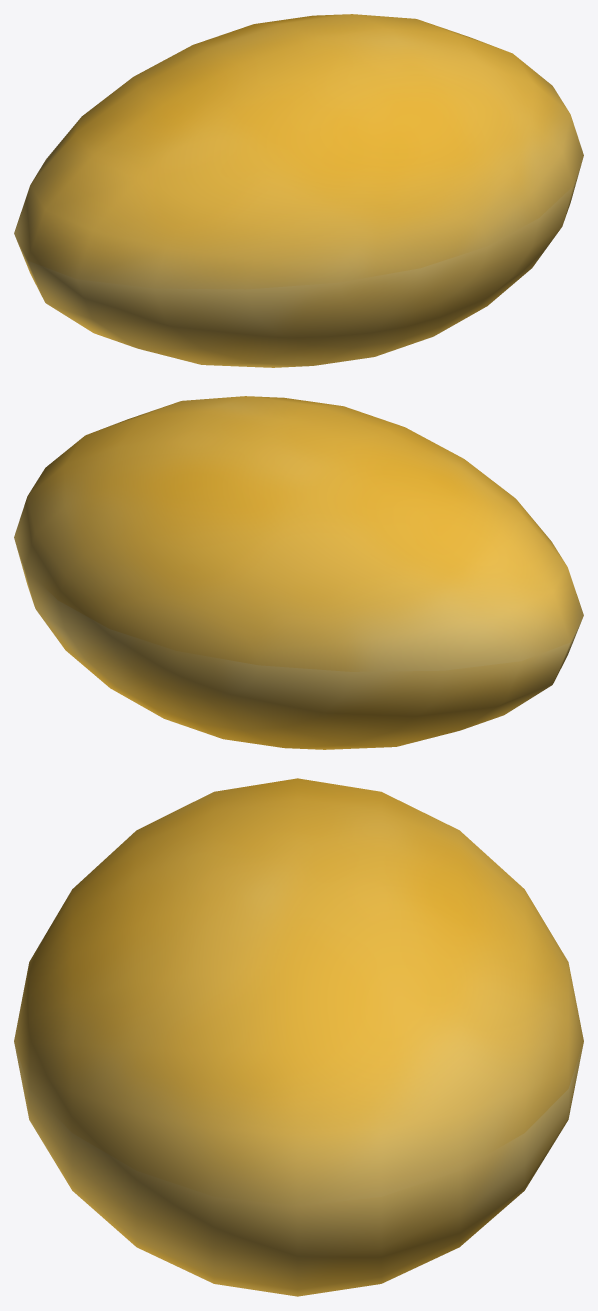
File: Steen Geel.FBX
3 renders of one model, top to bottom at view 1: azimuth 30°, elevation 25°; view 2: azimuth 150°, elevation 25°; view 3: azimuth 270°, elevation 25°, orthographic. The views are drawn at different scales.
Visible parts, largest first — view 1: Steen; view 2: Steen; view 3: Steen.
Part boxes in pixels (x1,y1,x2,y2): Steen: [14, 14, 583, 367]; Steen: [14, 396, 583, 749]; Steen: [14, 778, 583, 1296].
Bounding box in the file's own units: 88.39 × 47.32 × 60.47.
Materials: 1 (1 with a texture image).
